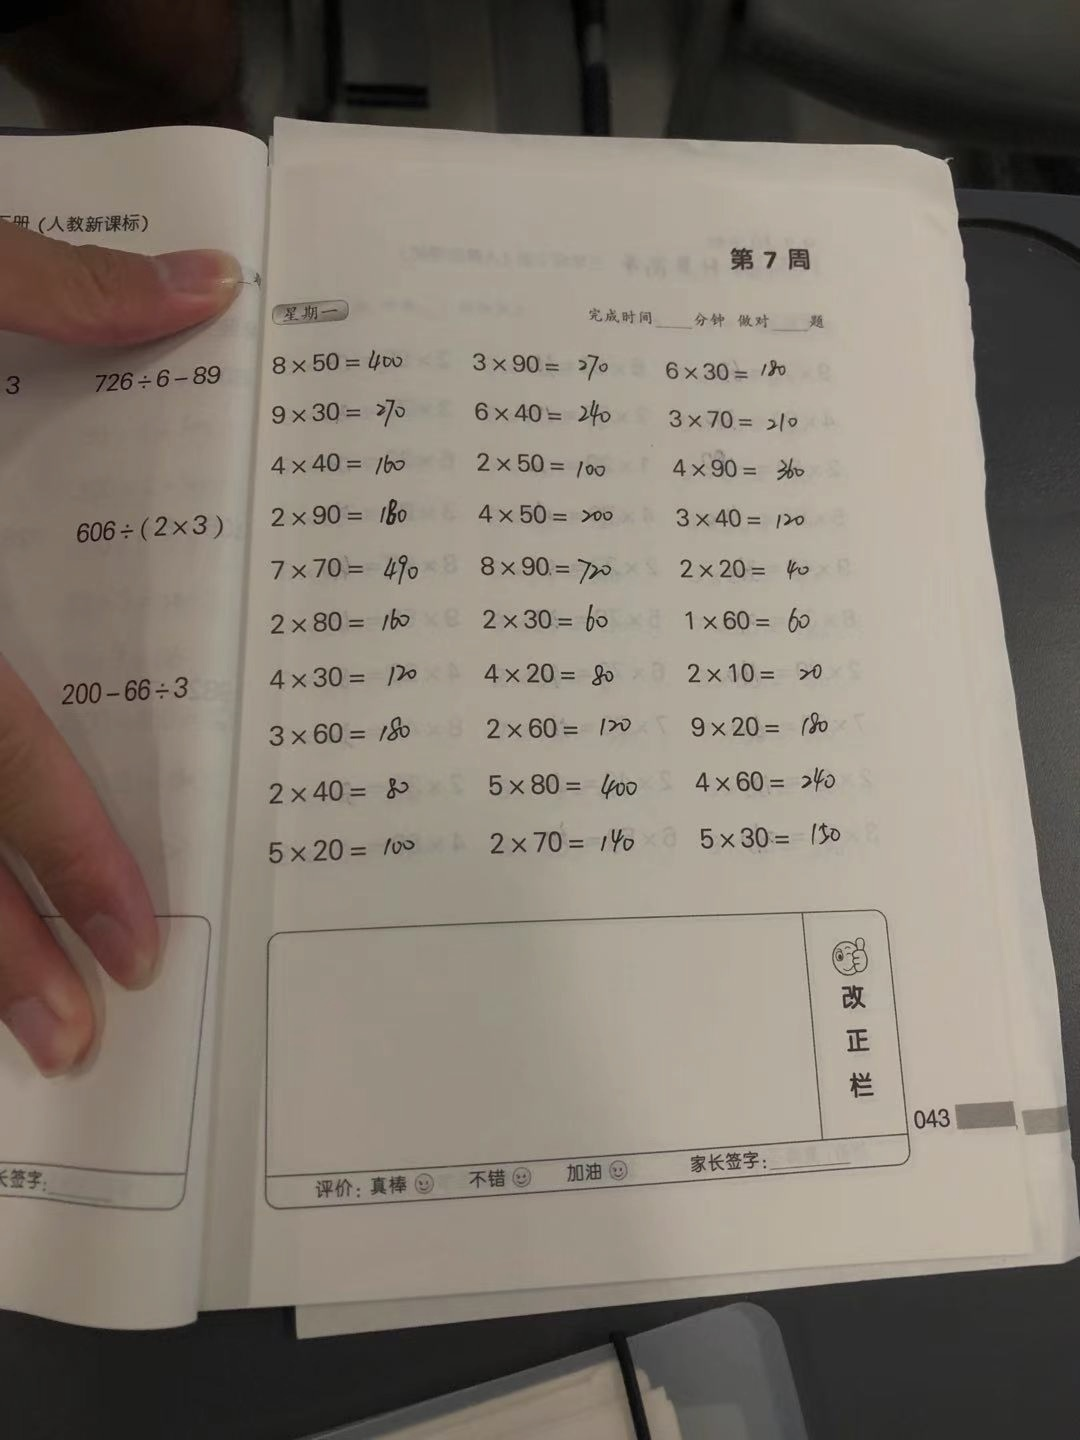equation: (251, 710, 452, 761), (459, 330, 634, 387), (682, 810, 864, 862), (670, 755, 854, 804), (256, 547, 441, 593), (253, 766, 447, 808), (245, 830, 447, 870), (651, 342, 817, 388), (250, 601, 444, 639), (668, 599, 853, 638), (670, 657, 845, 698), (251, 495, 437, 533), (261, 447, 431, 488), (461, 395, 630, 435), (470, 713, 648, 752), (467, 547, 630, 588), (657, 398, 828, 438), (668, 499, 844, 537), (476, 652, 642, 691), (261, 339, 413, 381), (664, 550, 832, 587), (259, 393, 434, 427), (481, 766, 651, 802), (457, 447, 624, 482), (465, 498, 630, 532), (481, 827, 657, 858), (256, 658, 422, 691), (664, 455, 828, 488), (673, 712, 854, 742), (471, 602, 638, 632)
